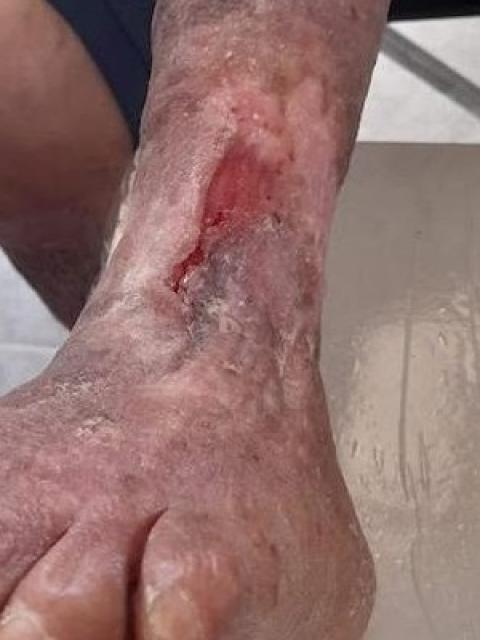wound: (157, 112, 304, 311)
